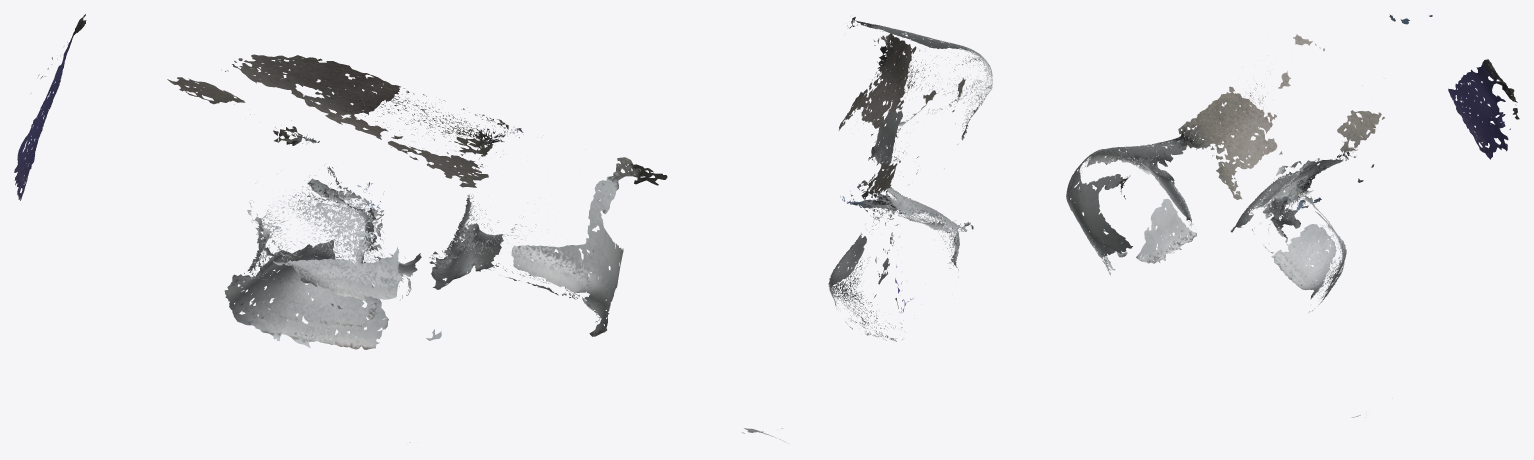
File: mesh_unlabeled_21.gltf
3 renders of one model, left to right at view 1: azimuth 30°, elevation 25°; view 2: azimuth 150°, elevation 25°; view 3: azimuth 270°, elevation 25°, orthographic. The views are drawn at different scales.
Parts seen in each view (by area): view 1: node; view 2: node; view 3: node.
Part boxes in pixels (box(x1,y1,x2,y2)): node: box(14, 14, 667, 443); node: box(742, 17, 992, 442); node: box(1066, 14, 1519, 417).
Bounding box in the file's own units: 3.22 × 3.35 × 4.06.
